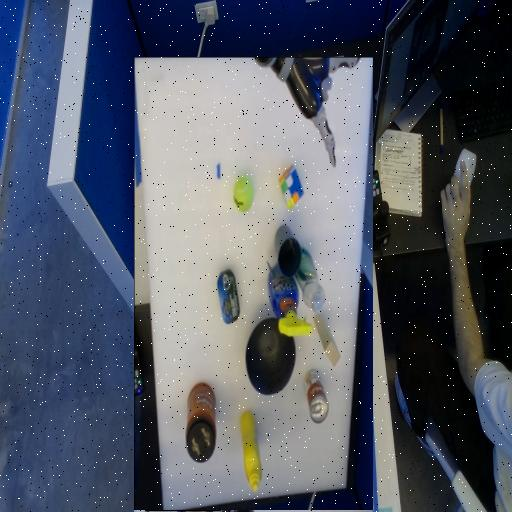bowl: (211, 174, 261, 249)
cleanser: (182, 271, 213, 302)
coffee_can: (292, 105, 320, 184)
jaco: (145, 445, 221, 494)
meat_can: (267, 261, 289, 283)
mug: (206, 291, 232, 341)
mustard_bottle: (246, 77, 266, 156)
rubik: (203, 359, 227, 401)
soup_can: (179, 145, 202, 197)
tennis_ball: (255, 357, 274, 391)
windex: (195, 244, 239, 285)
wooden_block: (166, 214, 192, 238)
workspace: (134, 58, 373, 510)
